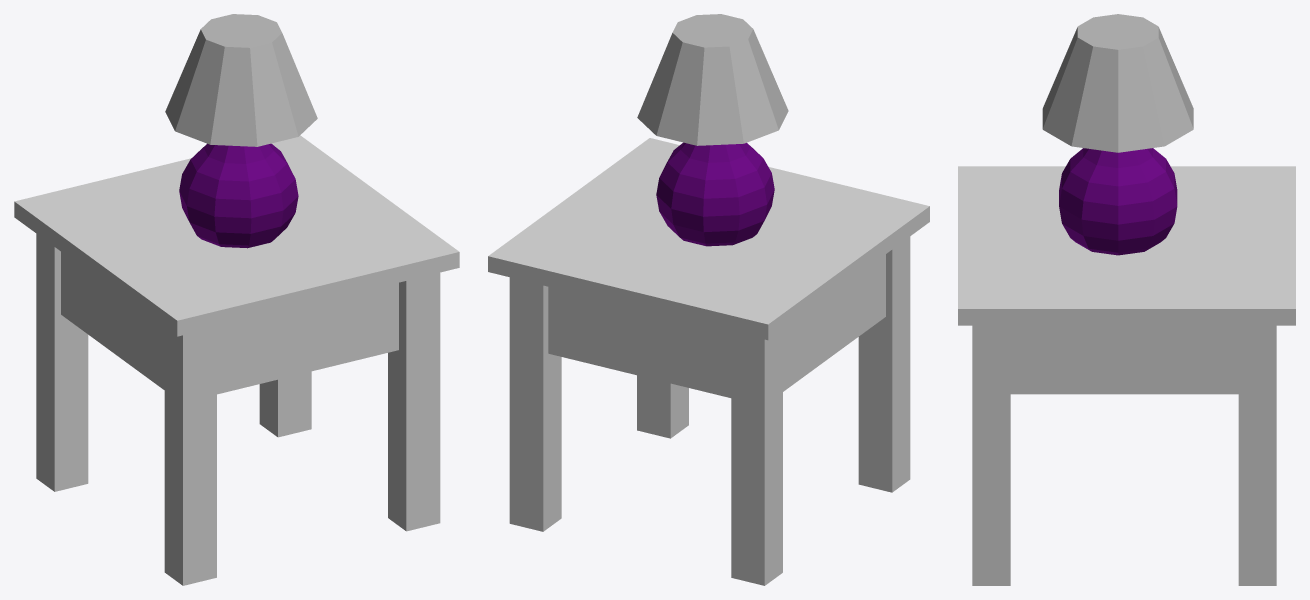
Rendered from NightStand.fbx.
3 views of the same model, side by side, from view 1: azimuth 30°, elevation 25°; view 2: azimuth 150°, elevation 25°; view 3: azimuth 270°, elevation 25° (orthographic). The views are drawn at different scales.
Parts seen in each view (by area): view 1: Top, Bottom, LampShade, Leg2, Leg3, Leg1, LampBase, Leg4; view 2: Top, Bottom, LampShade, Leg1, Leg4, Leg2, LampBase, Leg3; view 3: Top, Bottom, LampShade, LampBase, Leg3, Leg4.
Boxes of the visible parts, left/top/right/bottom form: Top: left=14, top=135, right=459, bottom=336; Bottom: left=61, top=252, right=398, bottom=394; LampShade: left=165, top=14, right=317, bottom=146; Leg2: left=164, top=327, right=216, bottom=585; Leg3: left=388, top=272, right=440, bottom=531; Leg1: left=36, top=234, right=88, bottom=491; LampBase: left=179, top=143, right=298, bottom=248; Leg4: left=259, top=371, right=311, bottom=437; Top: left=488, top=138, right=929, bottom=340; Bottom: left=548, top=254, right=885, bottom=397; LampShade: left=637, top=14, right=788, bottom=145; Leg1: left=731, top=330, right=782, bottom=585; Leg4: left=509, top=277, right=561, bottom=531; Leg2: left=858, top=236, right=910, bottom=492; LampBase: left=656, top=142, right=774, bottom=246; Leg3: left=637, top=375, right=688, bottom=438; Top: left=958, top=166, right=1295, bottom=325; Bottom: left=1010, top=325, right=1238, bottom=394; LampShade: left=1042, top=14, right=1193, bottom=152; LampBase: left=1059, top=148, right=1177, bottom=255; Leg3: left=972, top=325, right=1010, bottom=585; Leg4: left=1238, top=325, right=1276, bottom=585.
Bounding box in the file's own units: 1.21 × 1.94 × 1.21.
